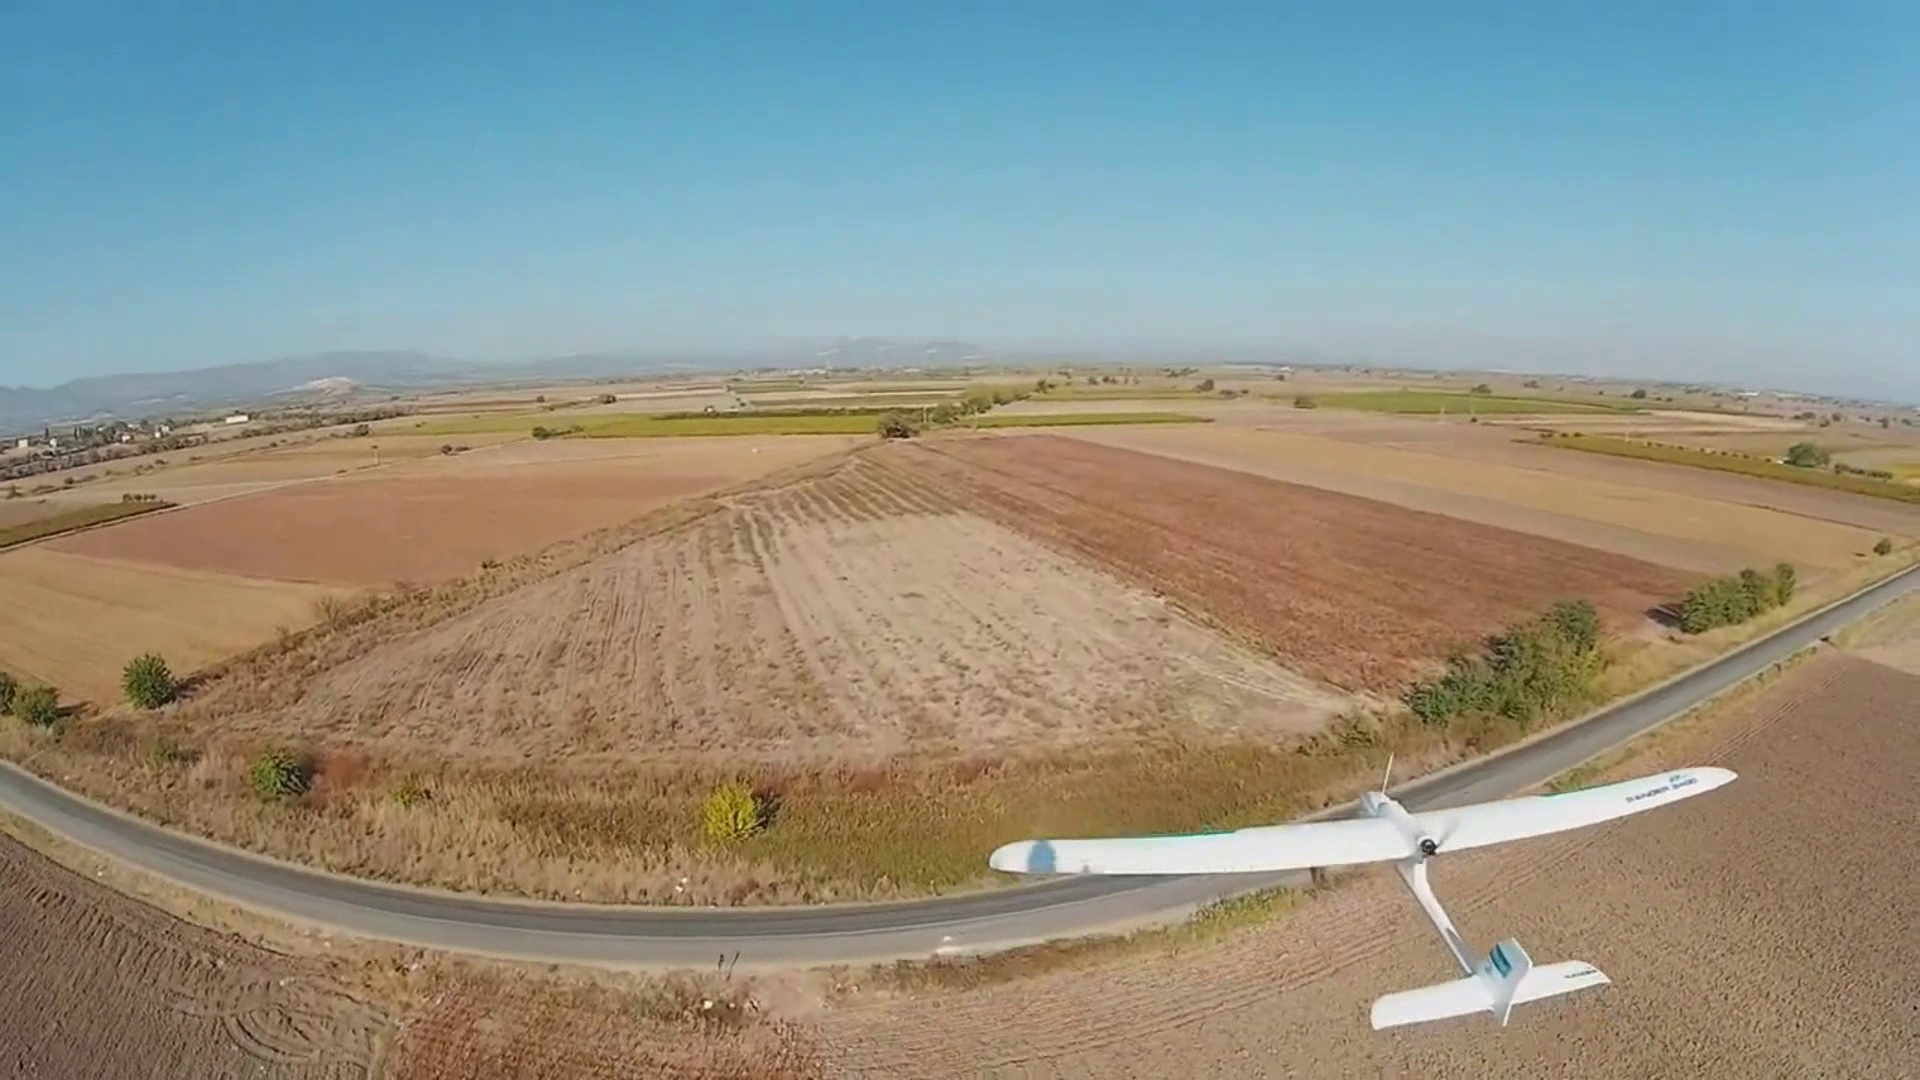airplane: (982, 555, 1917, 1021)
